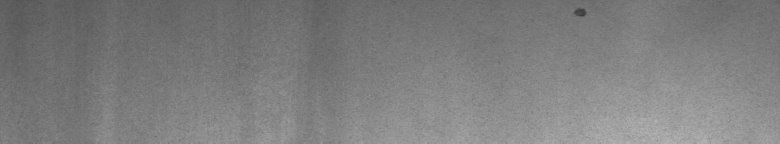fi: (571, 4, 590, 24)
